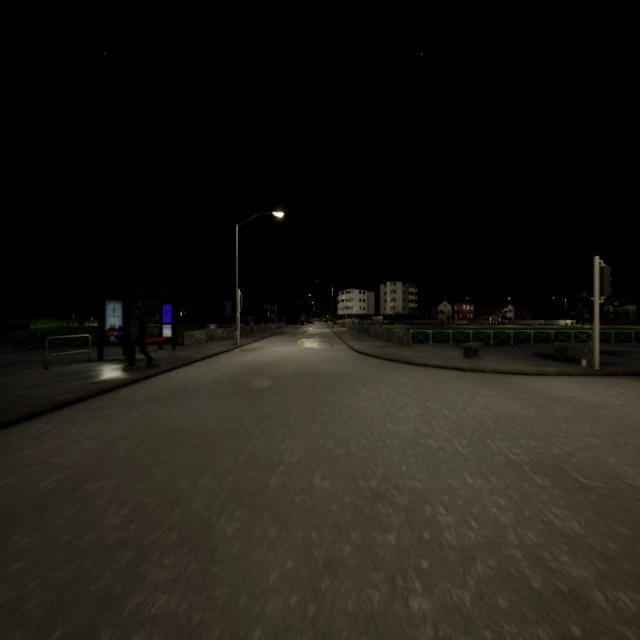Pedestrian: (125, 309, 153, 368)
Traffic_Signs: (324, 318, 326, 321)
Vehicle: (307, 319, 314, 325)
traffic_light: (599, 266, 612, 297), (240, 294, 242, 309), (327, 315, 329, 319)
